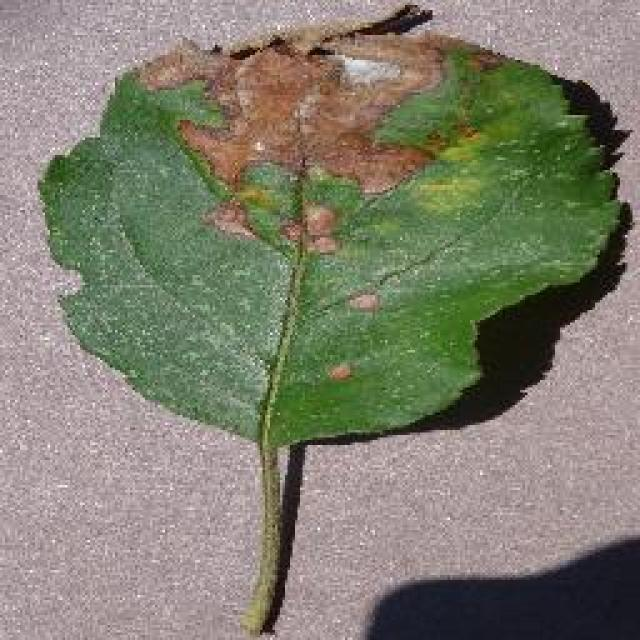apple black rot: (35, 0, 633, 635)
